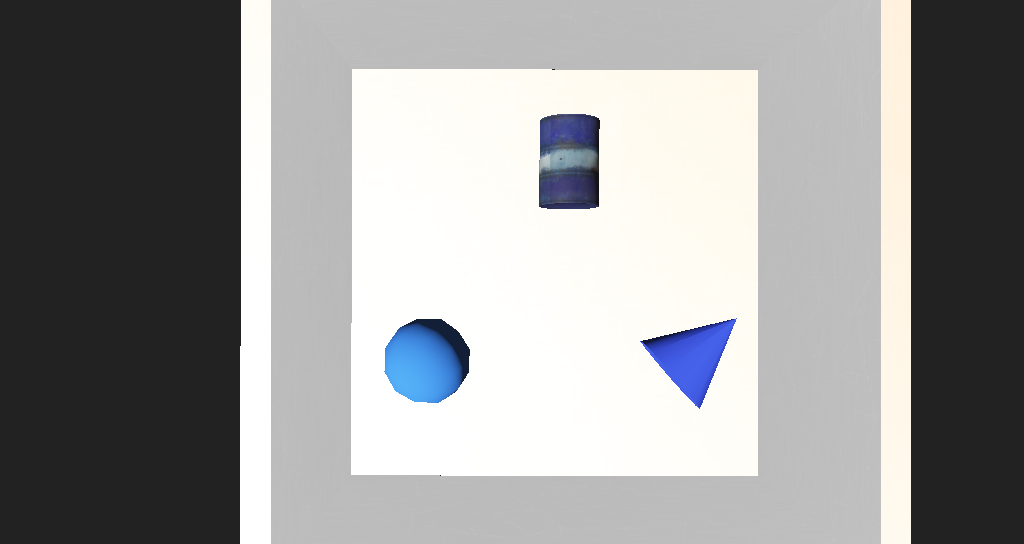cone: (495, 186, 542, 234)
cylinder: (569, 274, 670, 346)
sphere: (377, 293, 445, 336)
